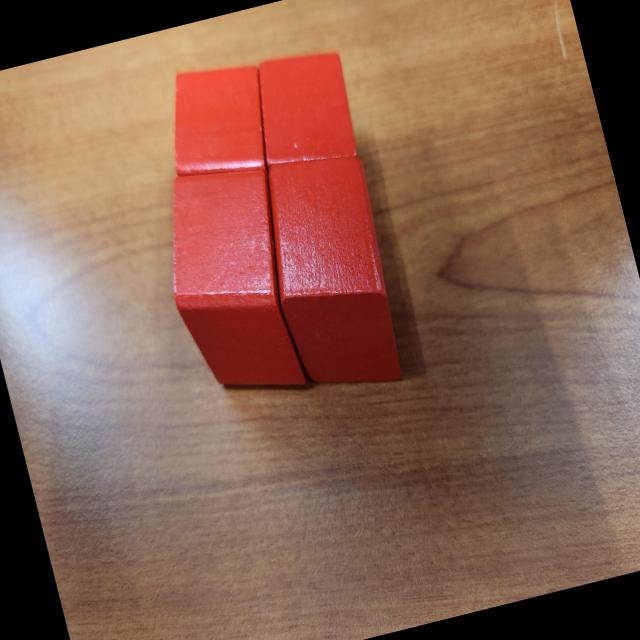red: (144, 154, 319, 414), (245, 142, 416, 404), (150, 51, 287, 205), (239, 42, 365, 180)
